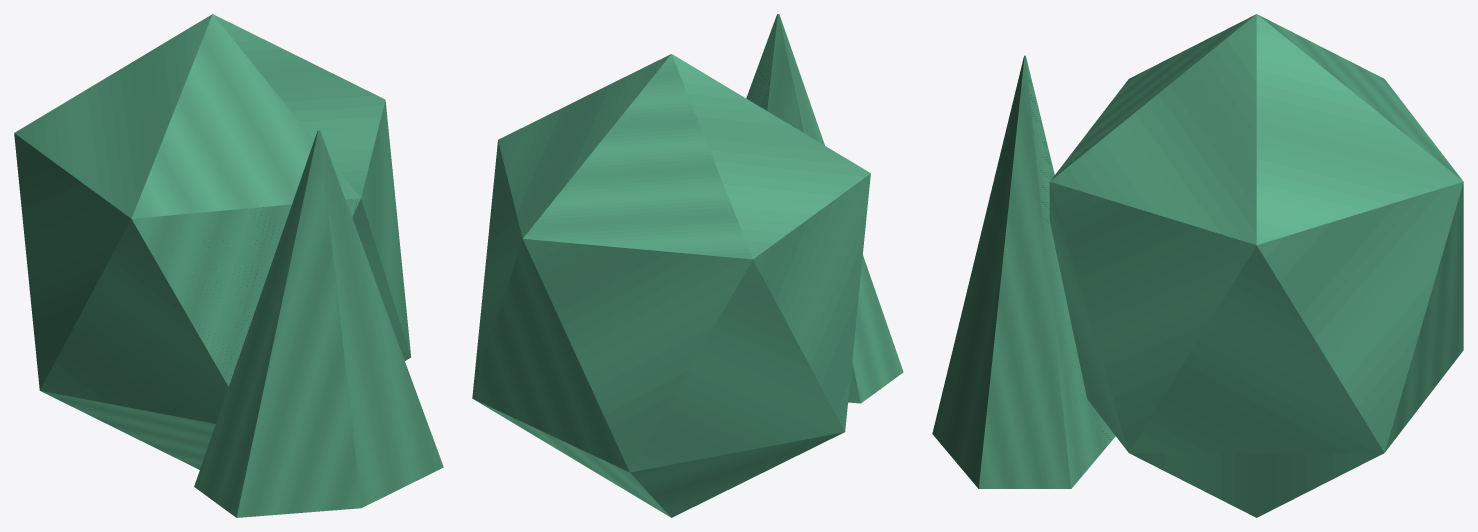
File: heat.glb
The picture shows the model from 3 angles, left to right: view 1: azimuth 30°, elevation 25°; view 2: azimuth 150°, elevation 25°; view 3: azimuth 270°, elevation 25°; orthographic projection. The views are drawn at different scales.
Parts seen in each view (by area): view 1: gear_heat; view 2: gear_heat; view 3: gear_heat.
Part boxes in pixels (x1=…): gear_heat: x1=14, y1=14, x2=443, y2=517; gear_heat: x1=472, y1=14, x2=903, y2=517; gear_heat: x1=932, y1=14, x2=1463, y2=517.
Size of the model in its own units: 0.1878 by 0.24 by 0.2293.
1 material, 1 textured.
